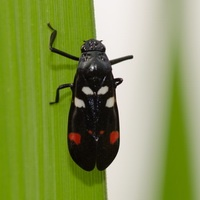insect: (48, 23, 132, 170)
